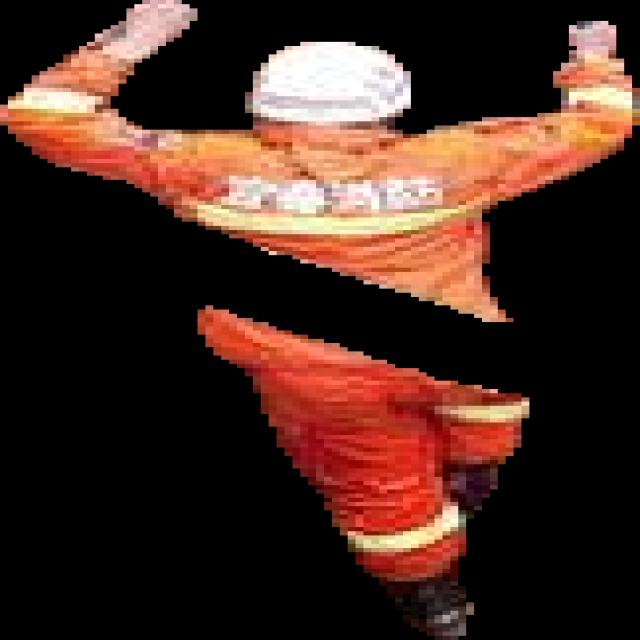Pessoa: (0, 0, 639, 322)
